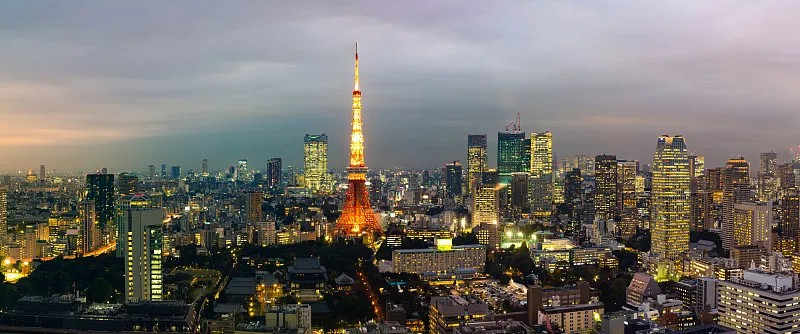Tokyo: (336, 38, 385, 237)
